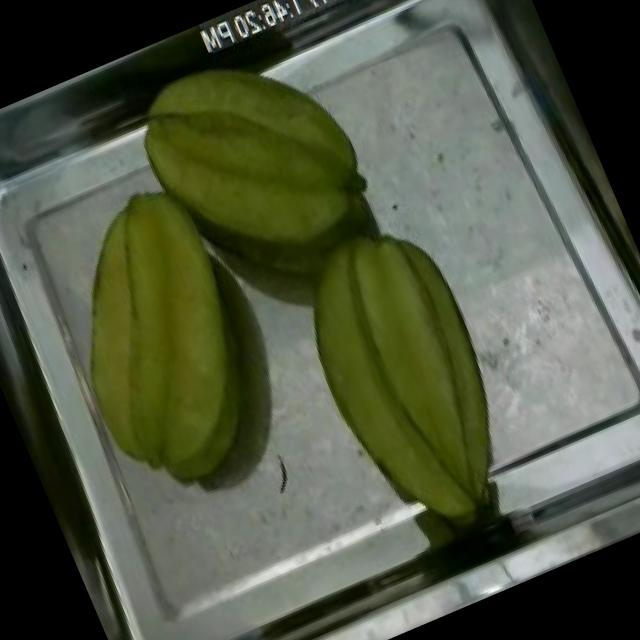fruit: (258, 193, 556, 568), (12, 162, 306, 525), (108, 12, 398, 308)
